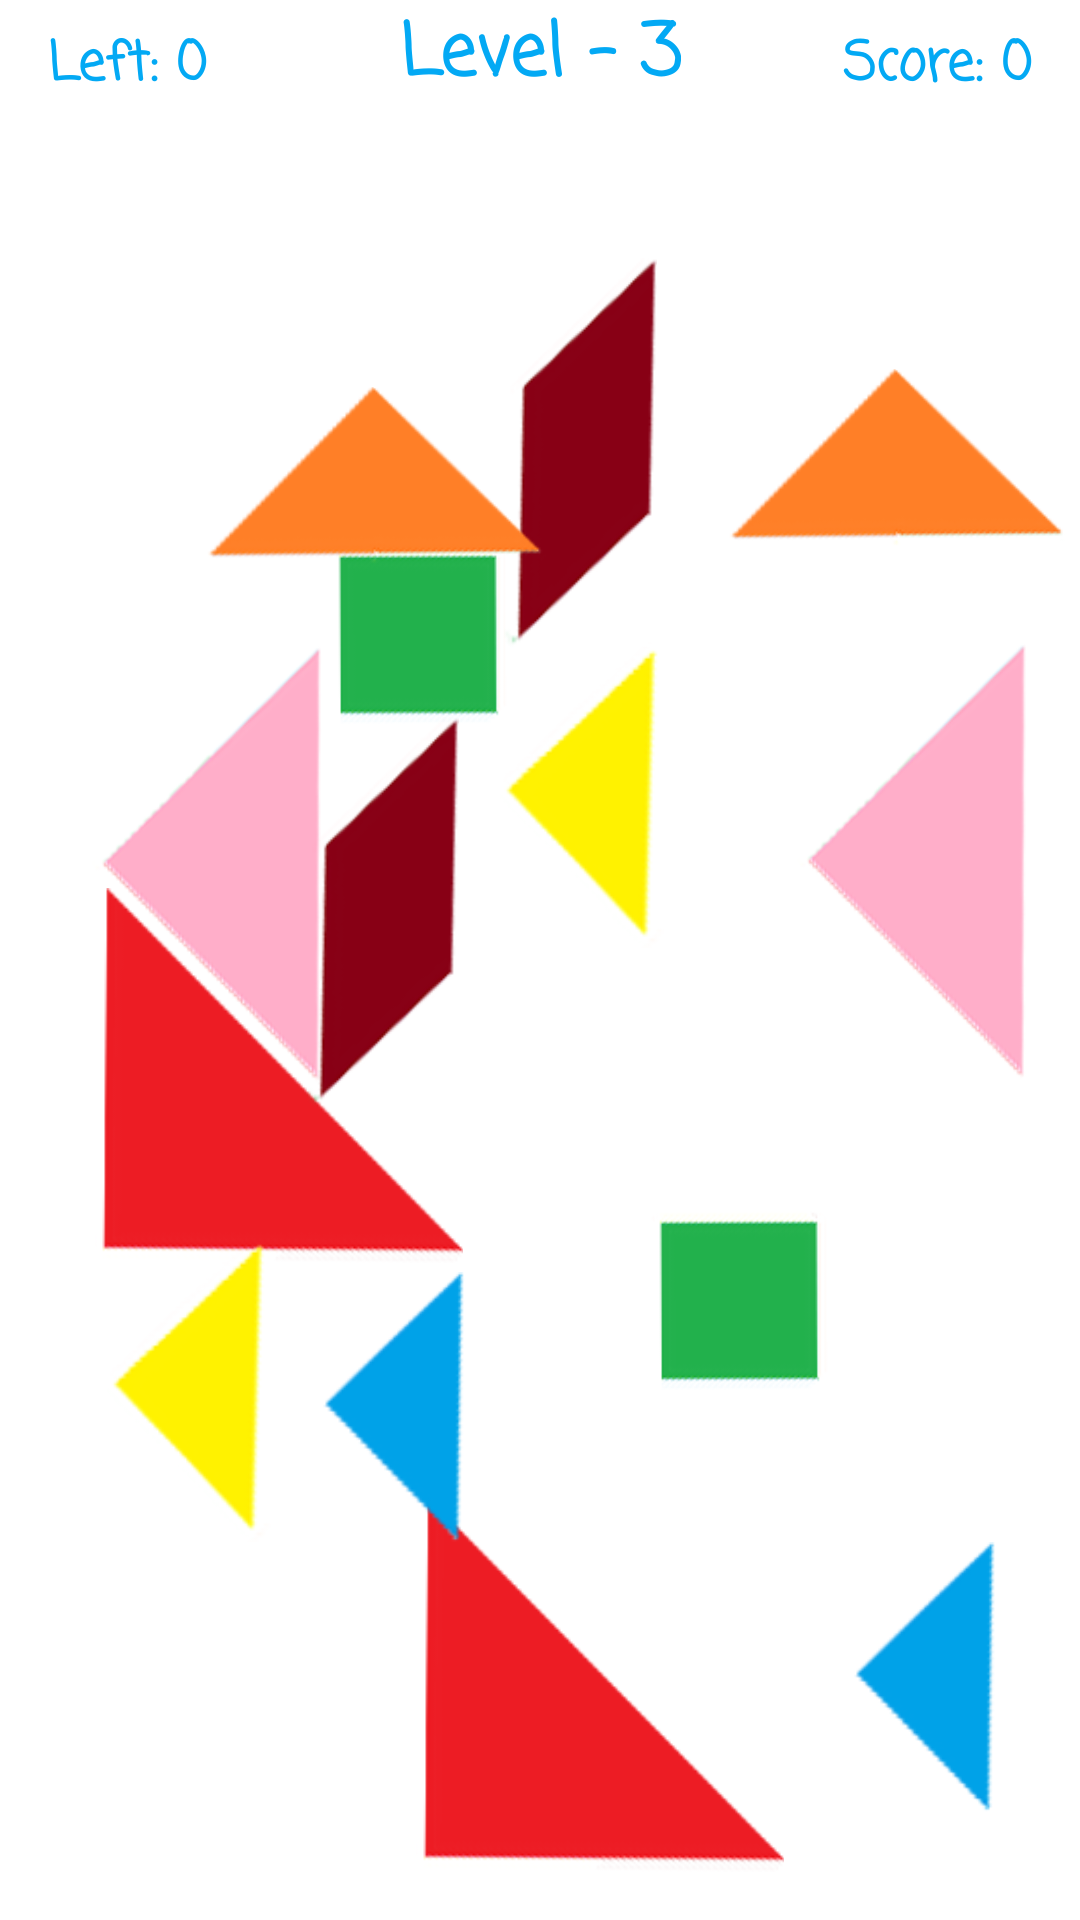

Where to tap for icons on this 1080w x 1920h app screen, as (x=x, y=y):
level kare: (x=418, y=634), (x=739, y=1300)
level kucukucgen: (x=581, y=793), (x=190, y=1382), (x=395, y=1413), (x=925, y=1676)
level ortaucgen: (x=896, y=454), (x=378, y=475)
